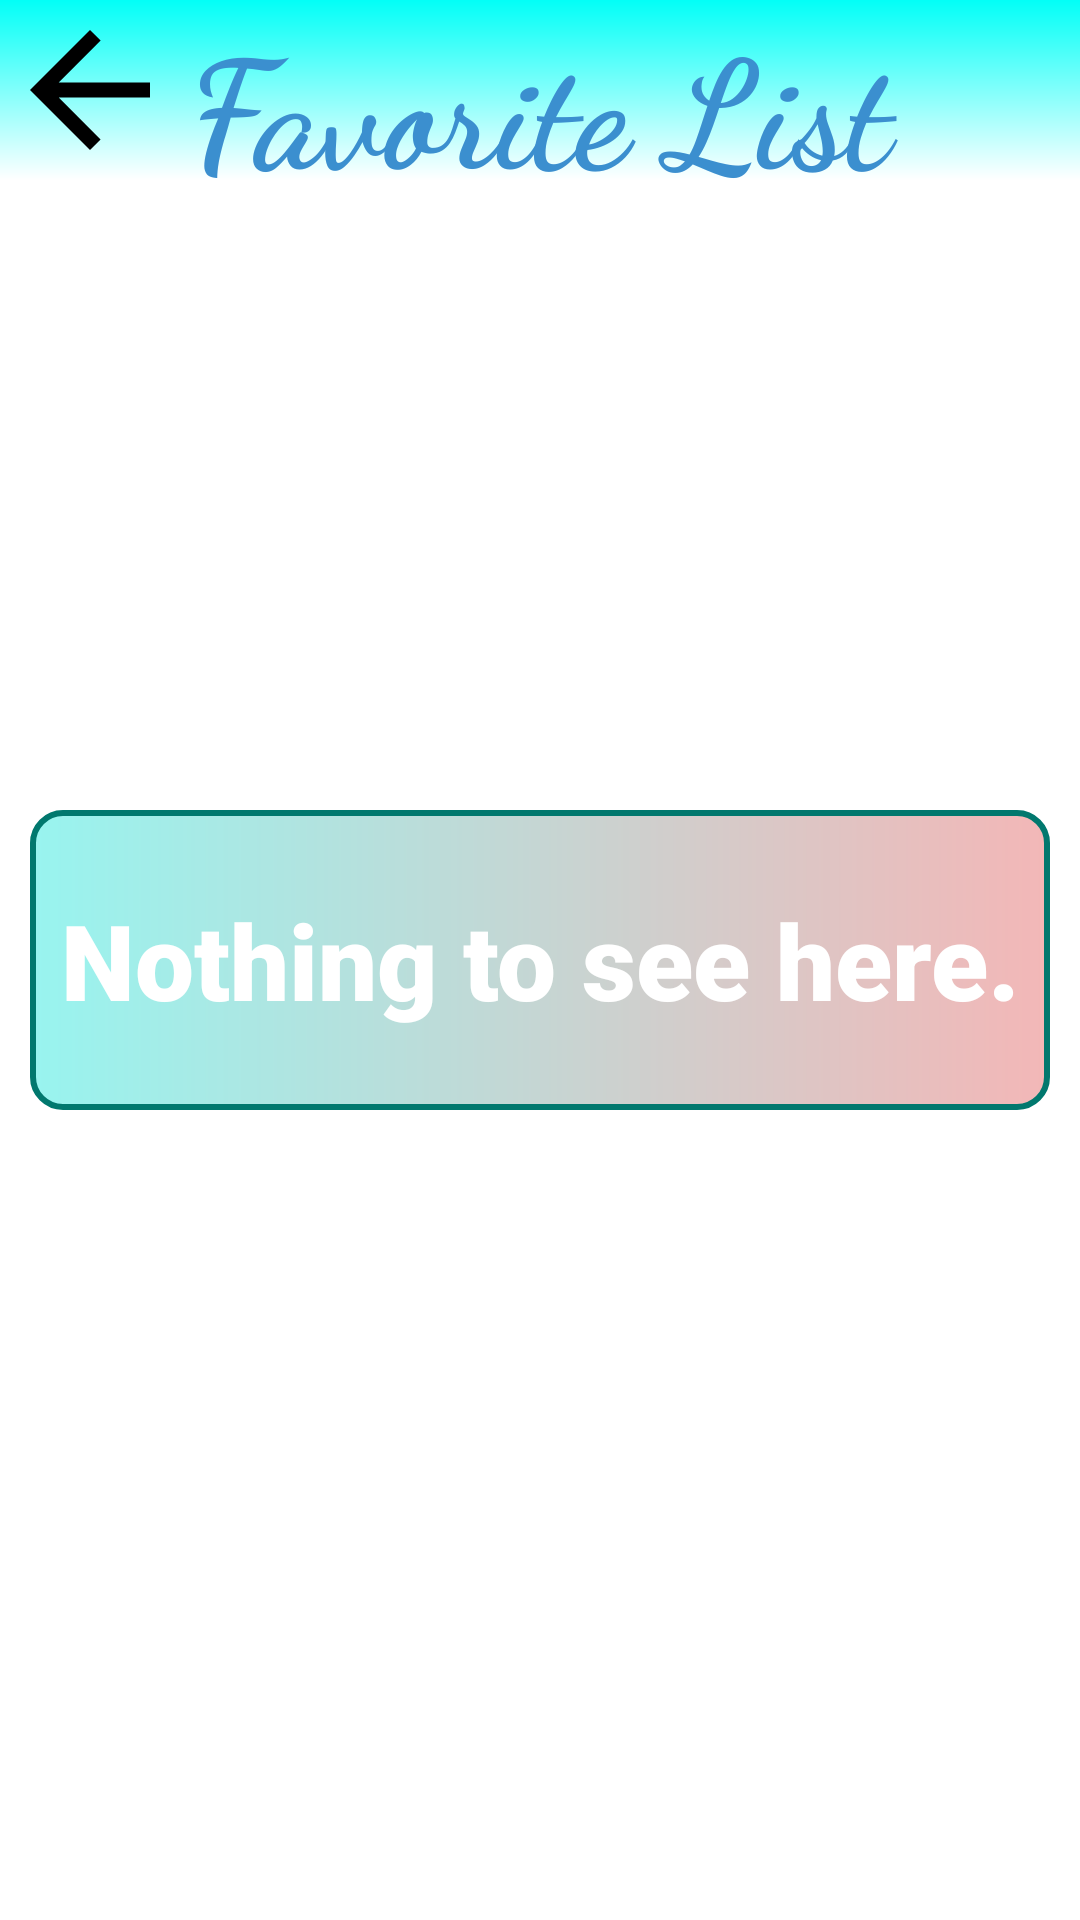

Named icons in this screenshot (1080w x 1920h) and their centers, [x,y]:
back: [90,90]
